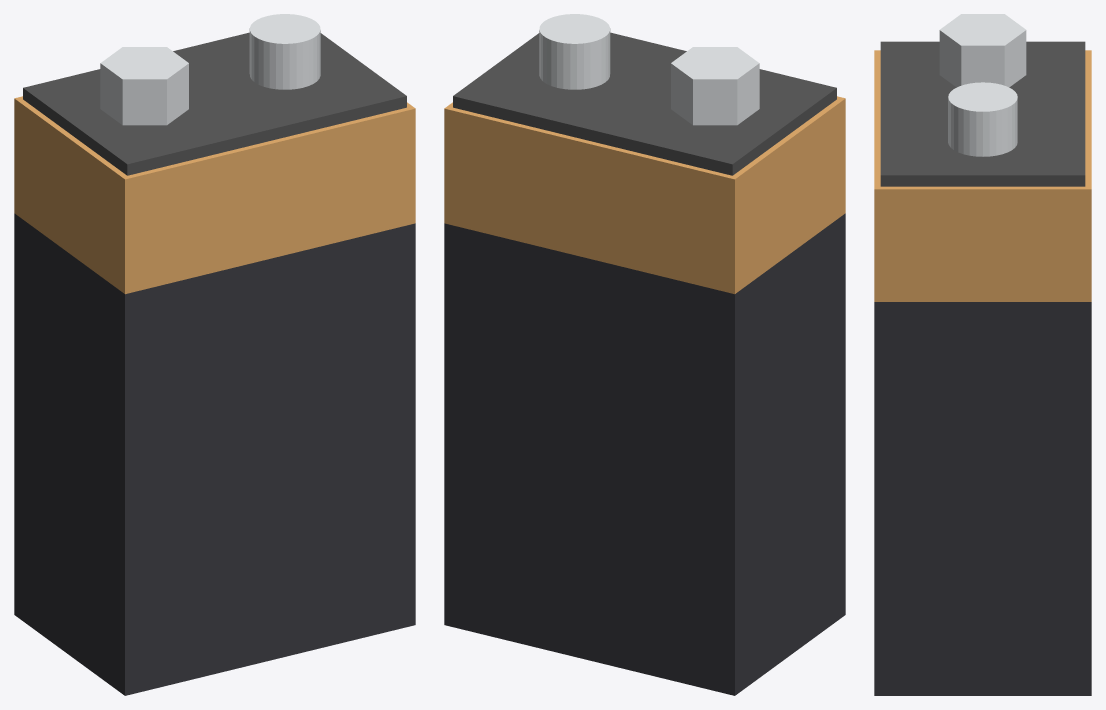
The model's file is battery_9v.glb.
3 renders of one model, left to right at view 1: azimuth 30°, elevation 25°; view 2: azimuth 150°, elevation 25°; view 3: azimuth 270°, elevation 25°, orthographic.
Visible parts, largest first — view 1: Cube, Cube.001, Cube.002, Batt_Neg_Hex, Batt_Pos_Stud; view 2: Cube, Cube.001, Cube.002, Batt_Neg_Hex, Batt_Pos_Stud; view 3: Cube, Cube.001, Cube.002, Batt_Neg_Hex, Batt_Pos_Stud.
Boxes of the visible parts, <box> form: Cube: <box>14,213,415,695</box>; Cube.001: <box>14,96,415,294</box>; Cube.002: <box>23,32,406,175</box>; Batt_Neg_Hex: <box>100,47,188,125</box>; Batt_Pos_Stud: <box>249,14,320,89</box>; Cube: <box>444,213,845,695</box>; Cube.001: <box>444,96,845,294</box>; Cube.002: <box>453,32,836,175</box>; Batt_Neg_Hex: <box>671,47,759,125</box>; Batt_Pos_Stud: <box>539,14,610,89</box>; Cube: <box>874,302,1091,695</box>; Cube.001: <box>874,50,1091,301</box>; Cube.002: <box>880,41,1085,186</box>; Batt_Neg_Hex: <box>939,14,1026,87</box>; Batt_Pos_Stud: <box>948,82,1017,156</box>.
Size of the model in its own units: 0.0265 by 0.05 by 0.0175.
